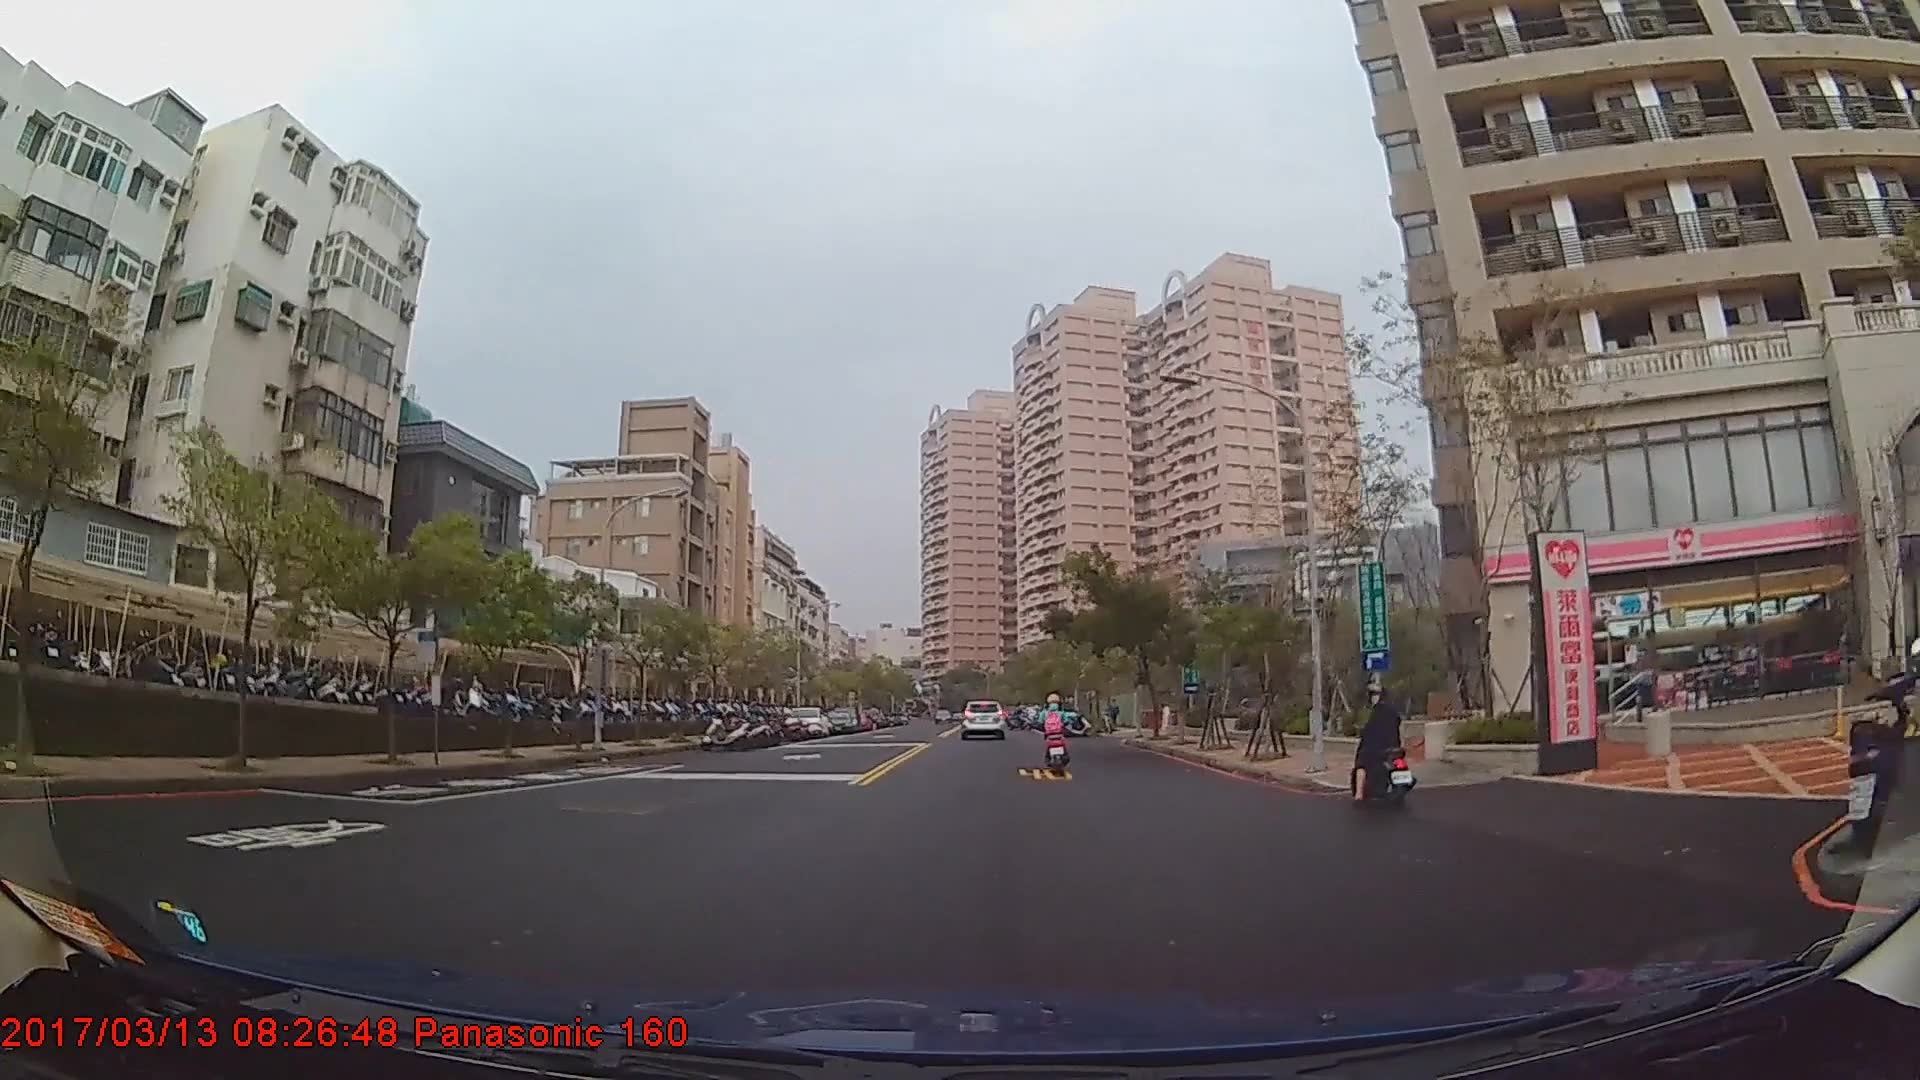rider: (1349, 686, 1425, 816), (1039, 690, 1076, 769)
vehicle: (957, 699, 1008, 738), (782, 706, 827, 737)
